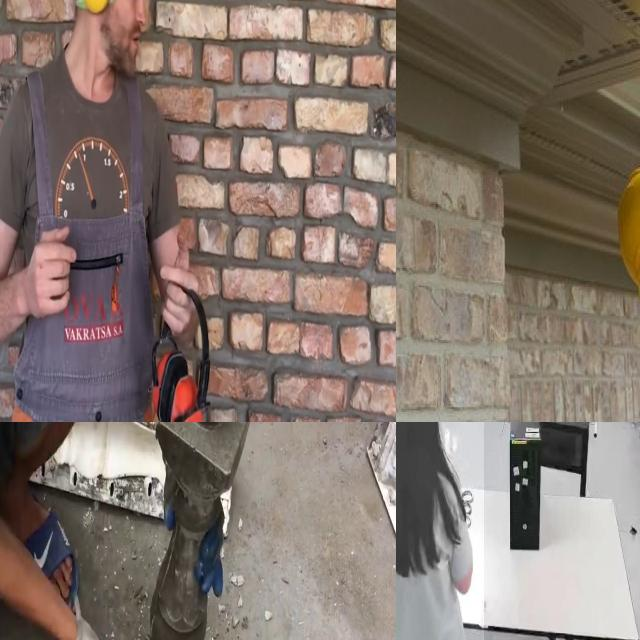Ear-protection: (72, 0, 154, 75)
hand_glove: (61, 601, 134, 640)
person: (396, 422, 484, 640)
